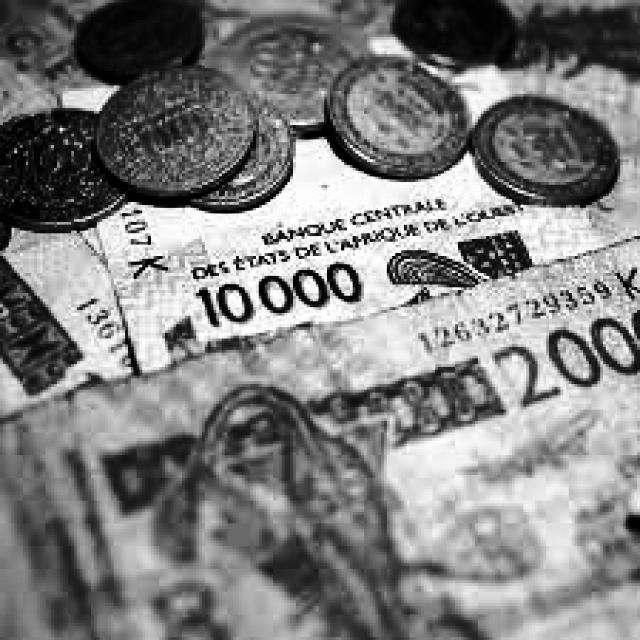niaar junni: (96, 139, 640, 372)
niaari fukk: (99, 66, 256, 199), (0, 114, 125, 228)
nient fukk: (330, 59, 468, 175), (472, 99, 618, 204)
nient teemeer: (1, 239, 640, 640)
teemeer: (199, 11, 369, 132)
